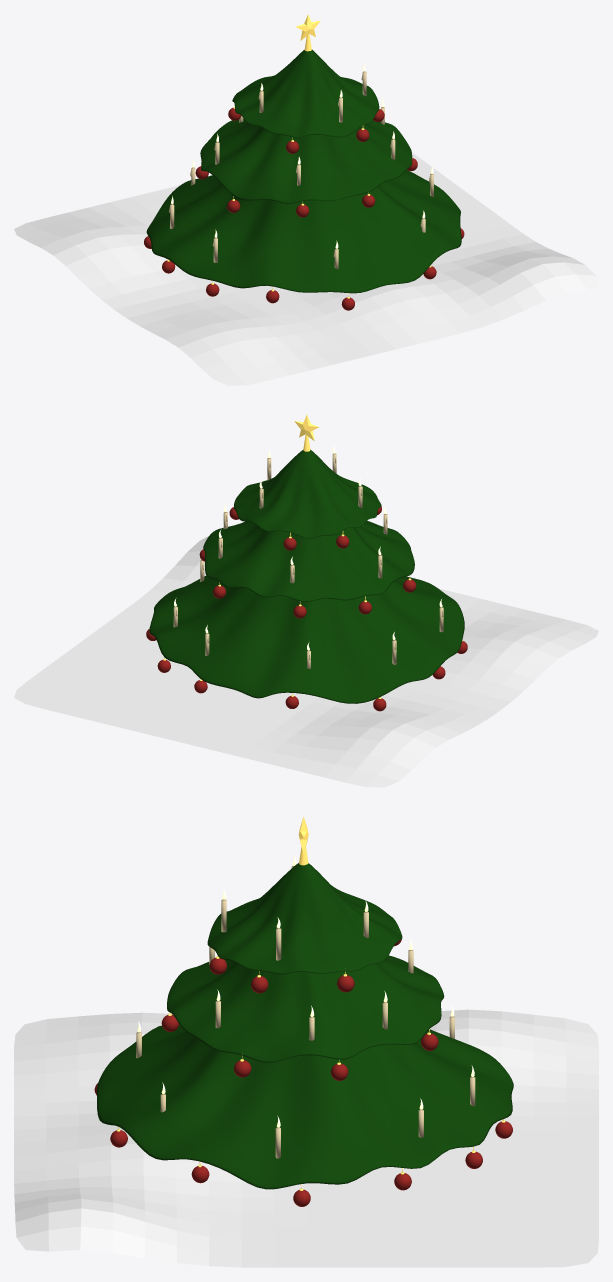
Rendered from xmas_tree.glb.
The picture shows the model from 3 angles, top to bottom: view 1: azimuth 30°, elevation 25°; view 2: azimuth 150°, elevation 25°; view 3: azimuth 270°, elevation 25°; orthographic projection. The views are drawn at different scales.
Parts seen in each view (by area): view 1: TreeGreen_85, Grid_2; view 2: TreeGreen_85, Grid_2; view 3: Grid_2, TreeGreen_85.
Part boxes in pixels (x1=…): TreeGreen_85: x1=146, y1=49, x2=461, y2=293; Grid_2: x1=14, y1=152, x2=598, y2=385; TreeGreen_85: x1=149, y1=449, x2=464, y2=703; Grid_2: x1=14, y1=536, x2=598, y2=787; Grid_2: x1=14, y1=1009, x2=598, y2=1267; TreeGreen_85: x1=97, y1=863, x2=513, y2=1189.
Bounding box in the file's own units: 0.926 × 0.5738 × 0.9248.
